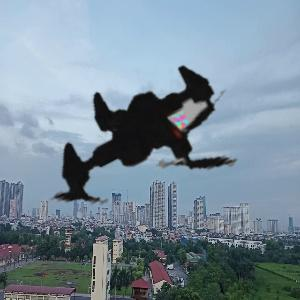drone: (3, 9, 288, 294)
